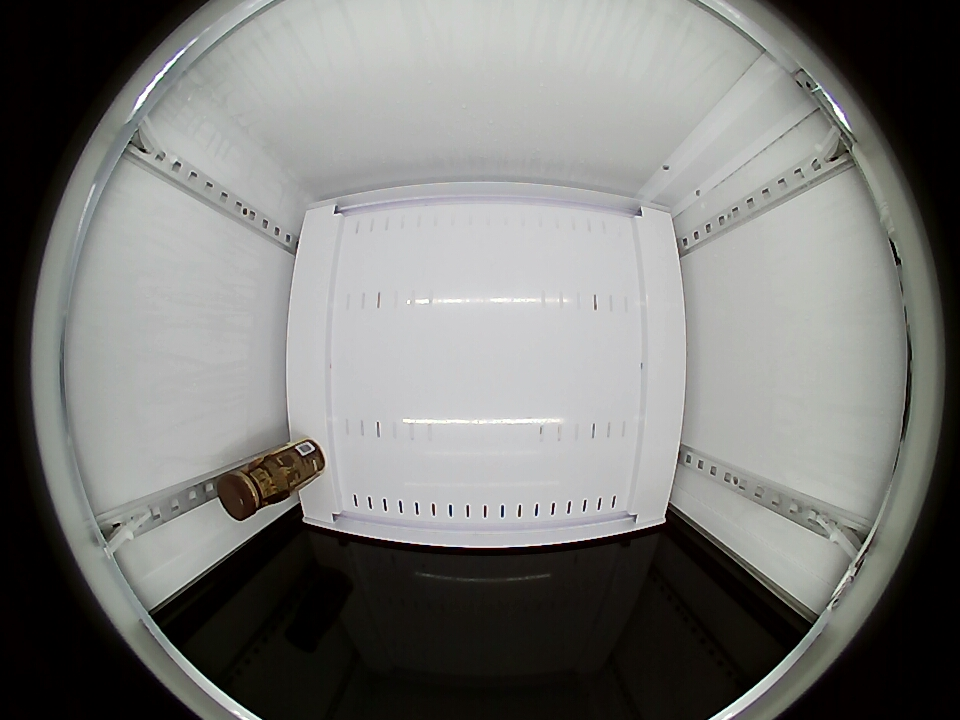lujikafei: (217, 456, 284, 521)
